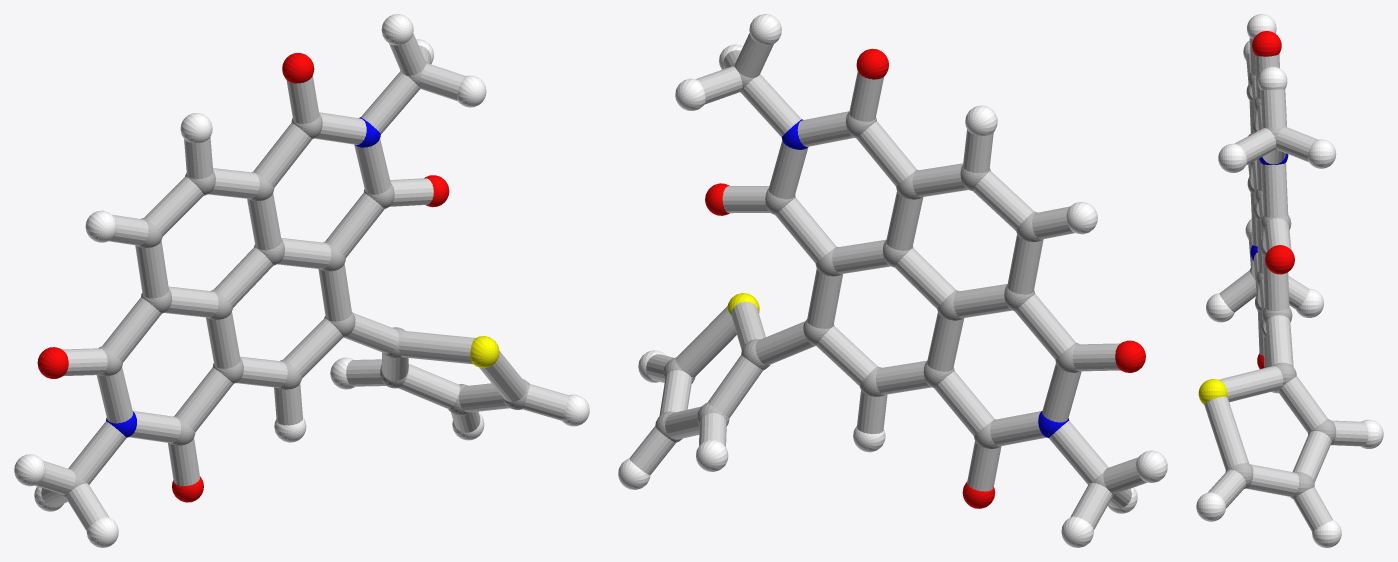
The model's file is Dimethyl_Naphthalene_Dicarboximide_Phi_10_Theta_240_Thiophene.glb.
3 renders of one model, left to right at view 1: azimuth 30°, elevation 25°; view 2: azimuth 150°, elevation 25°; view 3: azimuth 270°, elevation 25°, orthographic. The views are drawn at different scales.
Parts seen in each view (by area): view 1: grp14119, grp7241, grp1, grp12309, grp13757, grp11585; view 2: grp14119, grp7241, grp1, grp12309, grp11585; view 3: grp14119, grp7241, grp1, grp12309, grp13757.
Boxes of the visible parts, x1,y1,x2,y2 form: grp14119: (35,33,569,530); grp7241: (14,14,589,547); grp1: (60,60,529,498); grp12309: (37,53,449,502); grp13757: (470,336,499,367); grp11585: (106,117,380,437); grp14119: (629,33,1146,529); grp7241: (618,14,1167,547); grp1: (655,63,1116,497); grp12309: (705,48,1145,508); grp11585: (781,119,1069,437); grp14119: (1204,37,1368,531); grp7241: (1196,14,1383,547); grp1: (1225,73,1336,498); grp12309: (1248,31,1294,368); grp13757: (1198,379,1227,404).
Size of the model in its own units: 11.74 by 9.67 by 3.79.
